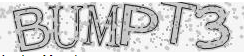3: (195, 4, 231, 50)
B: (11, 6, 51, 52)
M: (83, 3, 120, 49)
P: (120, 2, 160, 47)
T: (161, 1, 198, 47)
U: (49, 4, 84, 50)
